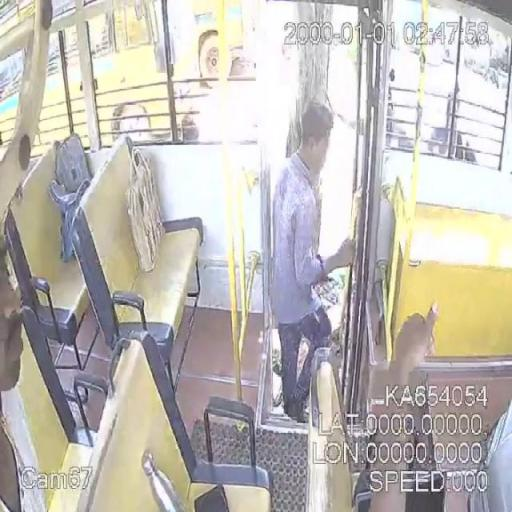persona: (270, 100, 358, 422)
